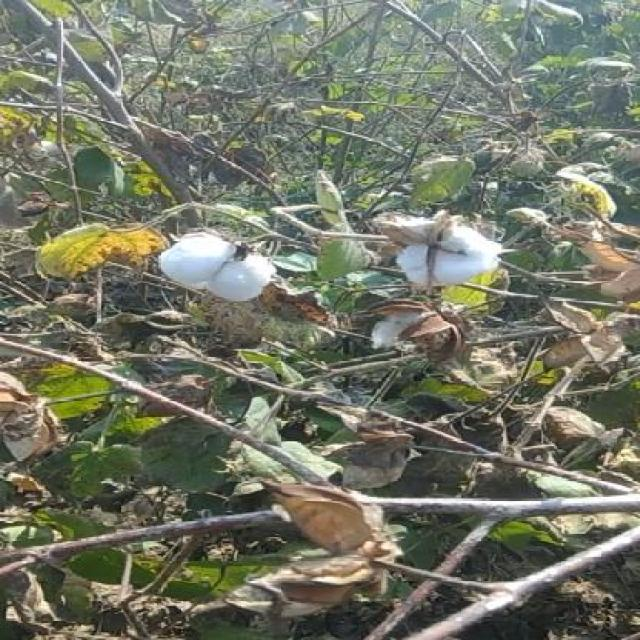cotton_ready: (148, 218, 298, 316), (391, 197, 511, 292)
